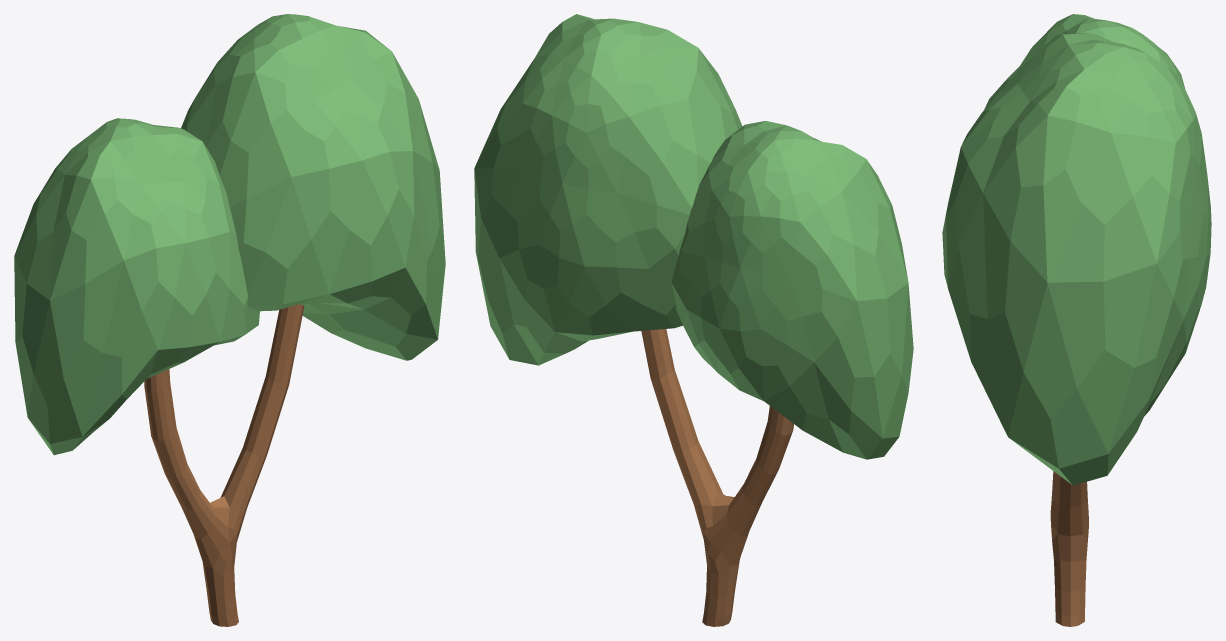
File: Tree4.glb
3 views of the same model, side by side, from view 1: azimuth 30°, elevation 25°; view 2: azimuth 150°, elevation 25°; view 3: azimuth 270°, elevation 25° (orthographic). The views are drawn at different scales.
Visible parts, largest first — view 1: Tree4; view 2: Tree4; view 3: Tree4.
Part boxes in pixels (x1=…): Tree4: x1=14, y1=14, x2=445, y2=626; Tree4: x1=474, y1=14, x2=913, y2=626; Tree4: x1=942, y1=14, x2=1211, y2=626.
Bounding box in the file's own units: 3.8 × 5.24 × 2.05.
